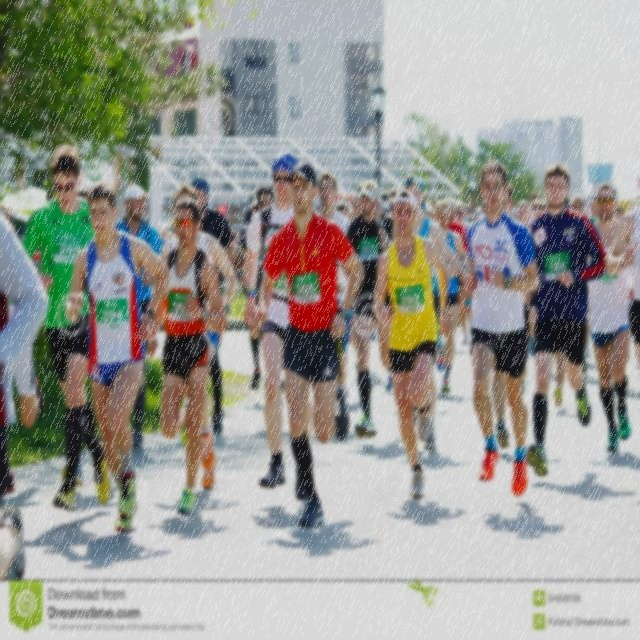pessoa: (252, 160, 366, 530), (63, 180, 174, 534), (19, 144, 113, 511), (522, 160, 610, 478), (144, 196, 230, 516), (462, 157, 540, 500), (242, 150, 316, 500), (372, 187, 452, 499), (0, 477, 240, 579), (158, 184, 238, 487), (389, 172, 462, 452), (336, 178, 396, 439), (0, 202, 51, 477), (584, 182, 633, 456), (114, 184, 164, 452), (190, 176, 238, 436), (489, 178, 534, 452), (237, 184, 285, 410), (251, 498, 374, 564), (604, 175, 640, 399), (317, 170, 353, 390), (429, 198, 468, 394), (532, 448, 638, 502), (234, 192, 262, 390), (348, 428, 464, 474), (445, 196, 470, 346), (484, 499, 564, 544), (386, 493, 464, 531), (512, 192, 551, 230), (564, 195, 598, 225), (452, 198, 476, 240), (334, 187, 360, 221), (464, 197, 486, 226), (378, 190, 398, 209), (160, 222, 176, 244), (422, 196, 437, 218), (77, 190, 91, 202)
